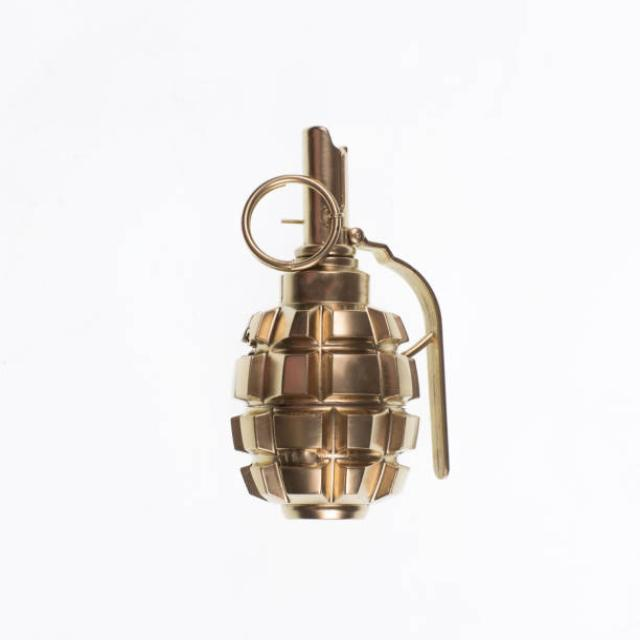grenade: (226, 120, 458, 528)
